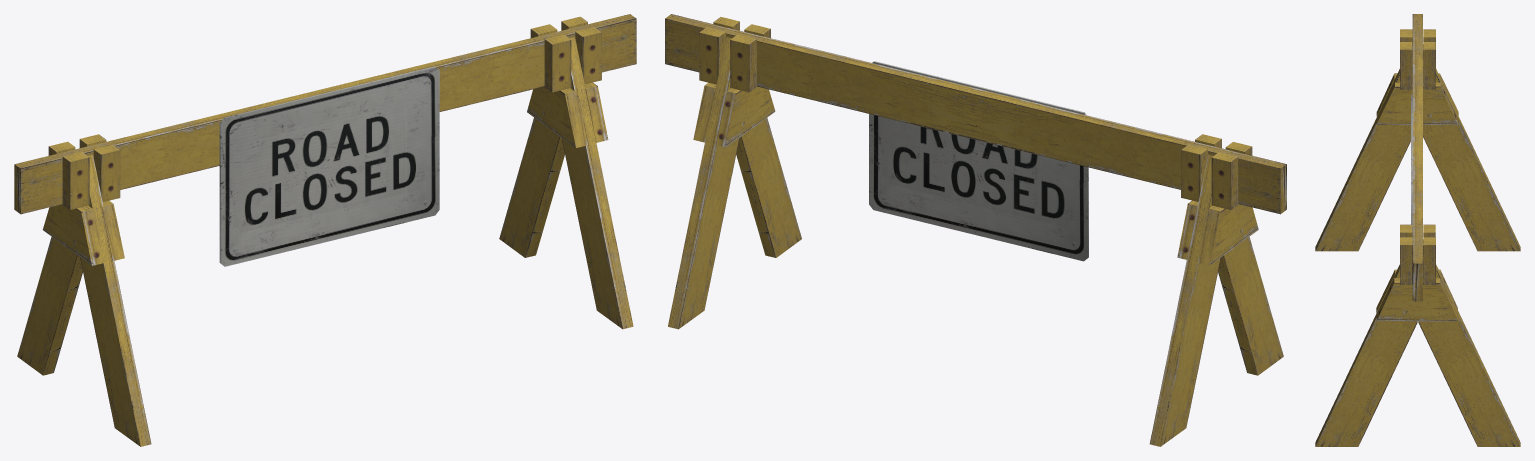
The model's file is Roadblock_Wood.FBX.
3 renders of one model, left to right at view 1: azimuth 30°, elevation 25°; view 2: azimuth 150°, elevation 25°; view 3: azimuth 270°, elevation 25°, orthographic. The views are drawn at different scales.
Parts seen in each view (by area): view 1: Roadblock_Wood, Sign_ClosedRoad; view 2: Roadblock_Wood, Sign_ClosedRoad; view 3: Roadblock_Wood, Sign_ClosedRoad.
Part boxes in pixels (x1,y1,x2,y2): Roadblock_Wood: [14, 14, 636, 446]; Sign_ClosedRoad: [219, 66, 439, 266]; Roadblock_Wood: [665, 14, 1286, 446]; Sign_ClosedRoad: [869, 61, 1088, 261]; Roadblock_Wood: [1315, 14, 1520, 446]; Sign_ClosedRoad: [1411, 95, 1412, 236].
Bounding box in the file's own units: 203 × 79.38 × 70.38.
